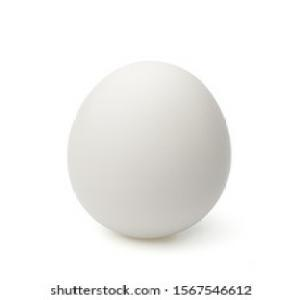Egg: (65, 58, 234, 244)
